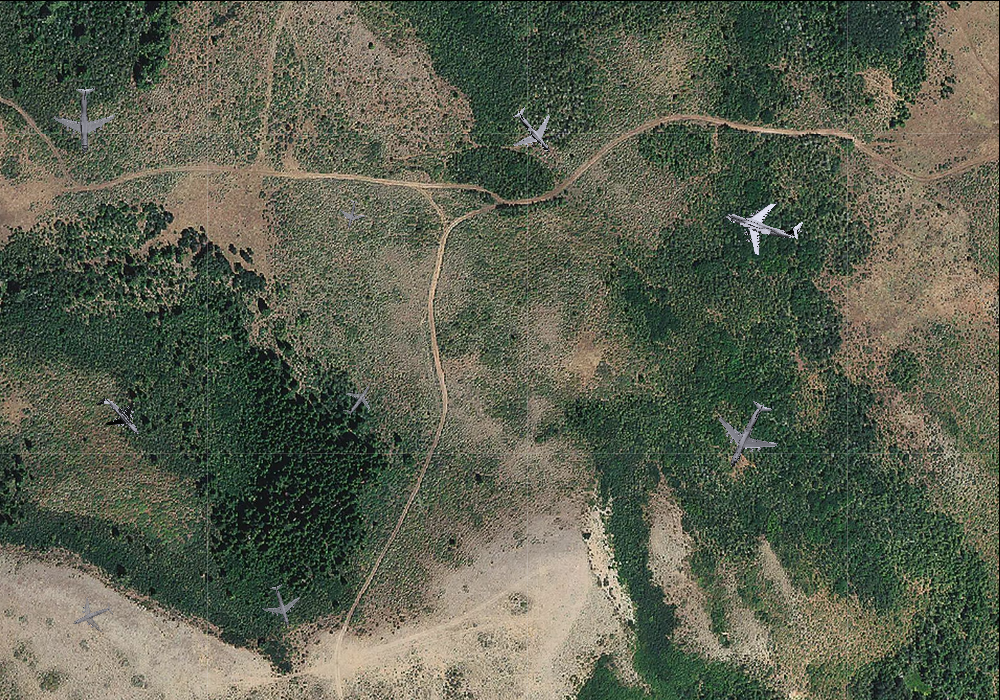plane: (716, 179, 811, 269), (702, 388, 793, 481), (498, 95, 569, 167), (85, 382, 152, 450), (52, 85, 116, 153), (65, 590, 119, 642), (256, 579, 306, 631), (334, 375, 381, 424), (335, 197, 367, 230)
